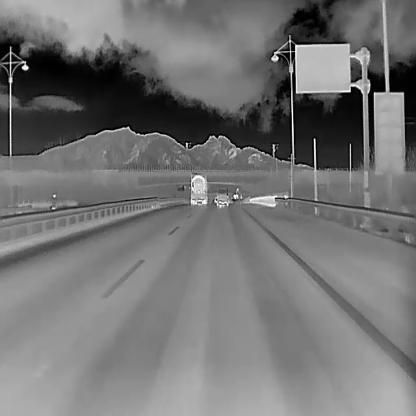car: (189, 172, 207, 205), (216, 187, 228, 205), (213, 196, 217, 203)
